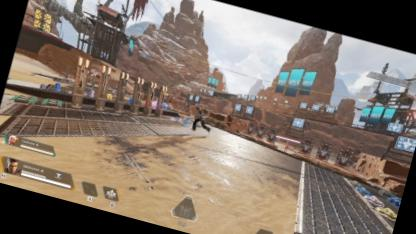Target: (188, 103, 216, 136)
